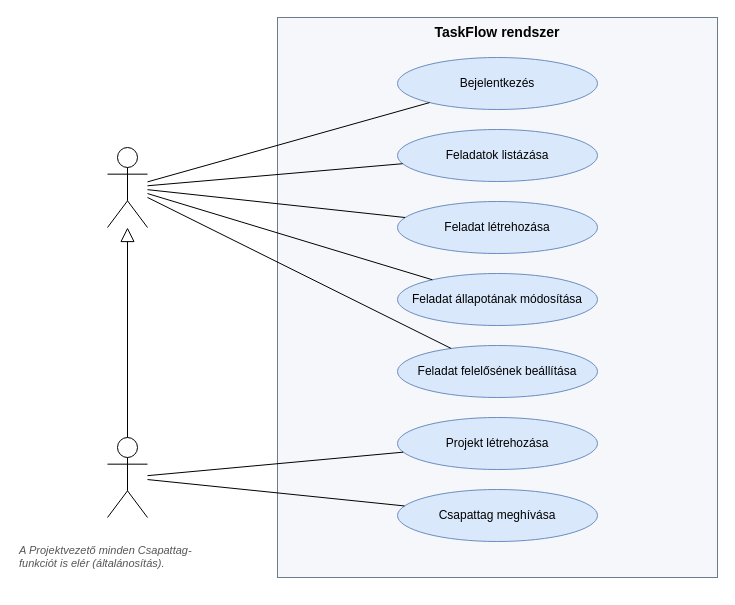
This 735x605 diagram has some shape labels left out. Each missing label, with the centre of its shape:
"Csapattag" belongs at pixel 127 187.
"Projektvezető" belongs at pixel 127 477.
